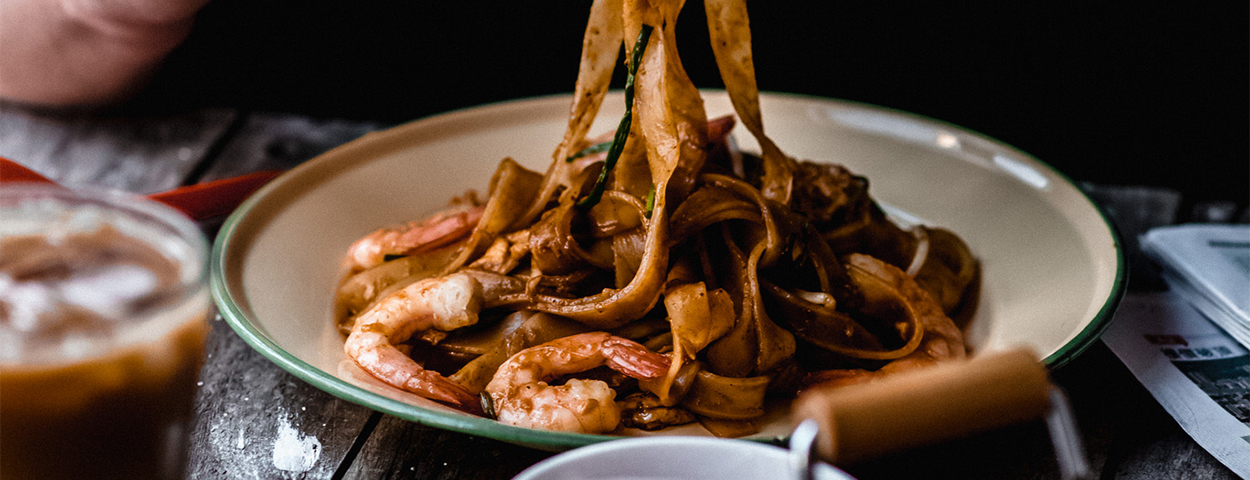Char Kway Teow: (316, 125, 980, 403)
